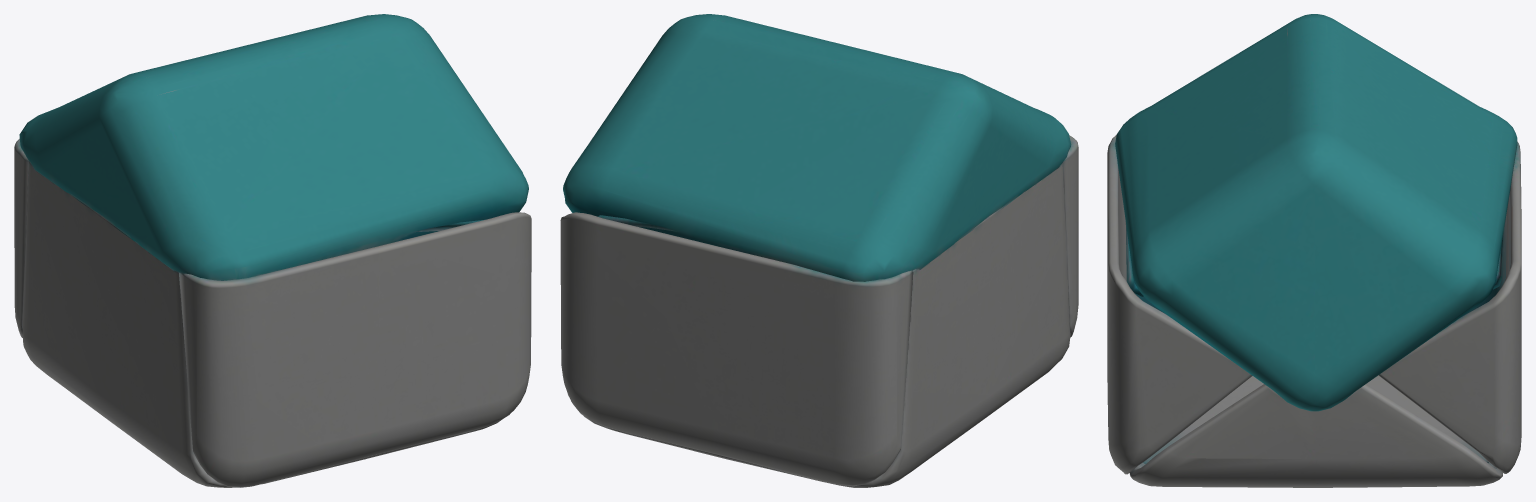
The model's file is icon-envelope.glb.
3 renders of one model, left to right at view 1: azimuth 30°, elevation 25°; view 2: azimuth 150°, elevation 25°; view 3: azimuth 270°, elevation 25°, orthographic. The views are drawn at different scales.
Visible parts, largest first — view 1: tripo_node_kodyurd-model-38____________________; view 2: tripo_node_kodyurd-model-38____________________; view 3: tripo_node_kodyurd-model-38____________________.
Part boxes in pixels (left/top/right/bottom): tripo_node_kodyurd-model-38____________________: left=14, top=14, right=531, bottom=487; tripo_node_kodyurd-model-38____________________: left=560, top=14, right=1078, bottom=487; tripo_node_kodyurd-model-38____________________: left=1107, top=14, right=1521, bottom=487.
Size of the model in its own units: 0.998 by 0.8887 by 0.959.
Materials: 1 (1 with a texture image).
